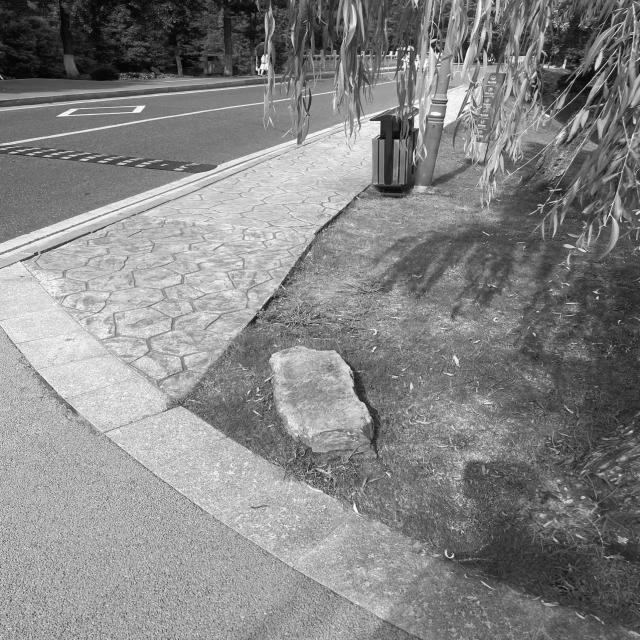Stone: (271, 346, 375, 456)
